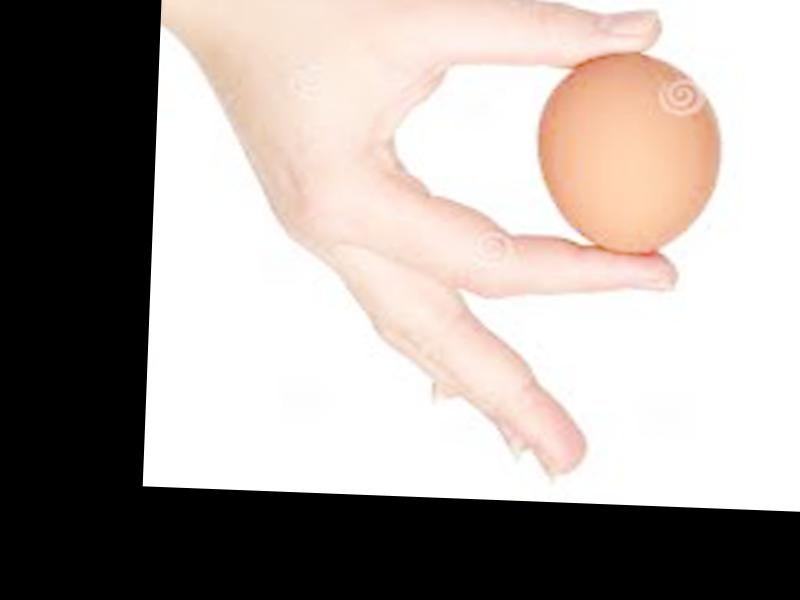Eggs: (530, 47, 726, 258)
